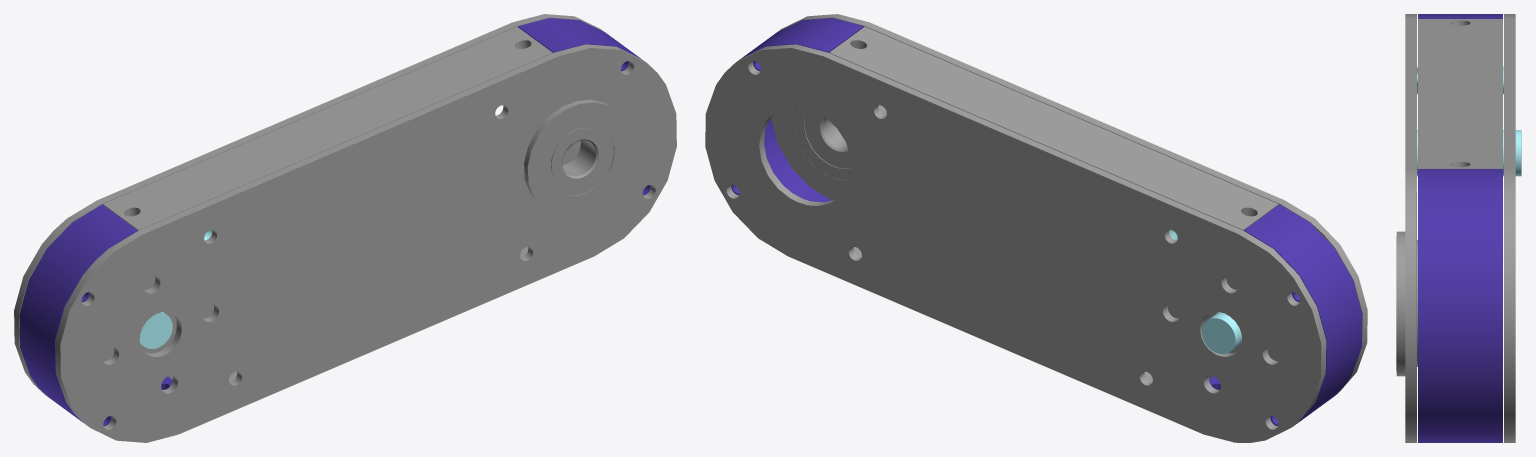
File: Robot_3_X_Axes.gltf
3 renders of one model, left to right at view 1: azimuth 30°, elevation 25°; view 2: azimuth 150°, elevation 25°; view 3: azimuth 270°, elevation 25°, orthographic. The views are drawn at different scales.
Parts seen in each view (by area): view 1: StaticMesh2; view 2: StaticMesh2; view 3: StaticMesh2.
Part boxes in pixels (x1,y1,x2,y2): StaticMesh2: (14,14,676,442); StaticMesh2: (705,14,1367,442); StaticMesh2: (1396,14,1521,442).
Size of the model in its own units: 14.6 by 6.49 by 2.15.
